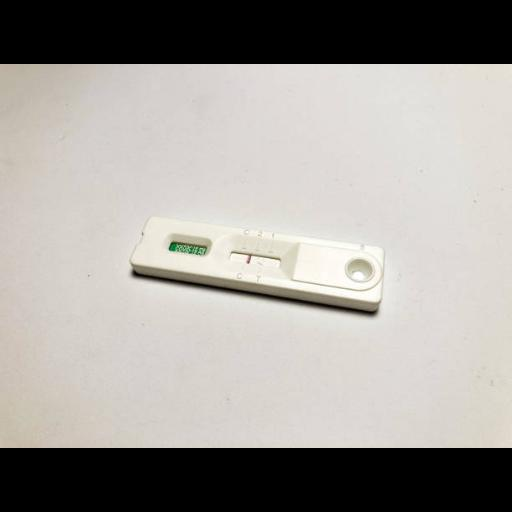Neg: (131, 216, 385, 304)
